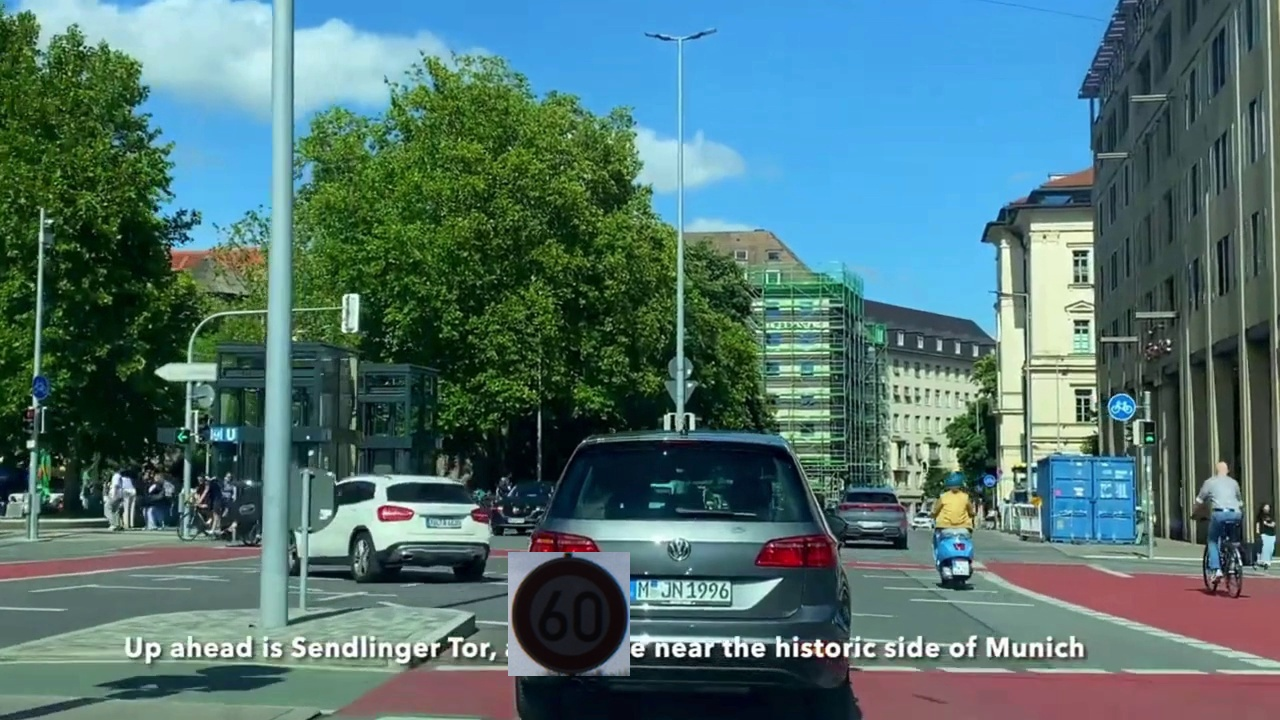Speed 60: (508, 552, 630, 676)
